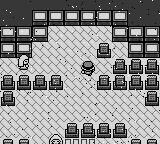main: (81, 61, 95, 76)
no-caminable: (1, 10, 159, 58), (1, 0, 159, 27), (96, 58, 160, 107), (1, 75, 63, 106), (65, 123, 128, 138), (96, 43, 112, 58), (16, 138, 30, 143)
npc: (18, 55, 30, 70), (48, 135, 63, 143)
